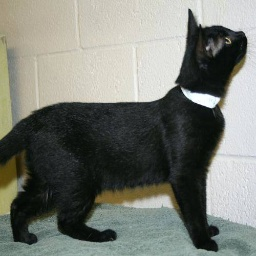cat: (6, 9, 228, 250)
